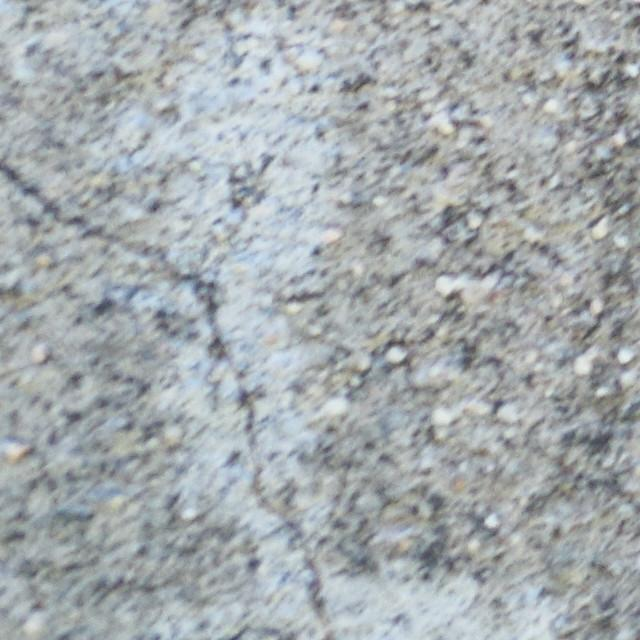curved crack: (272, 508, 333, 639)
